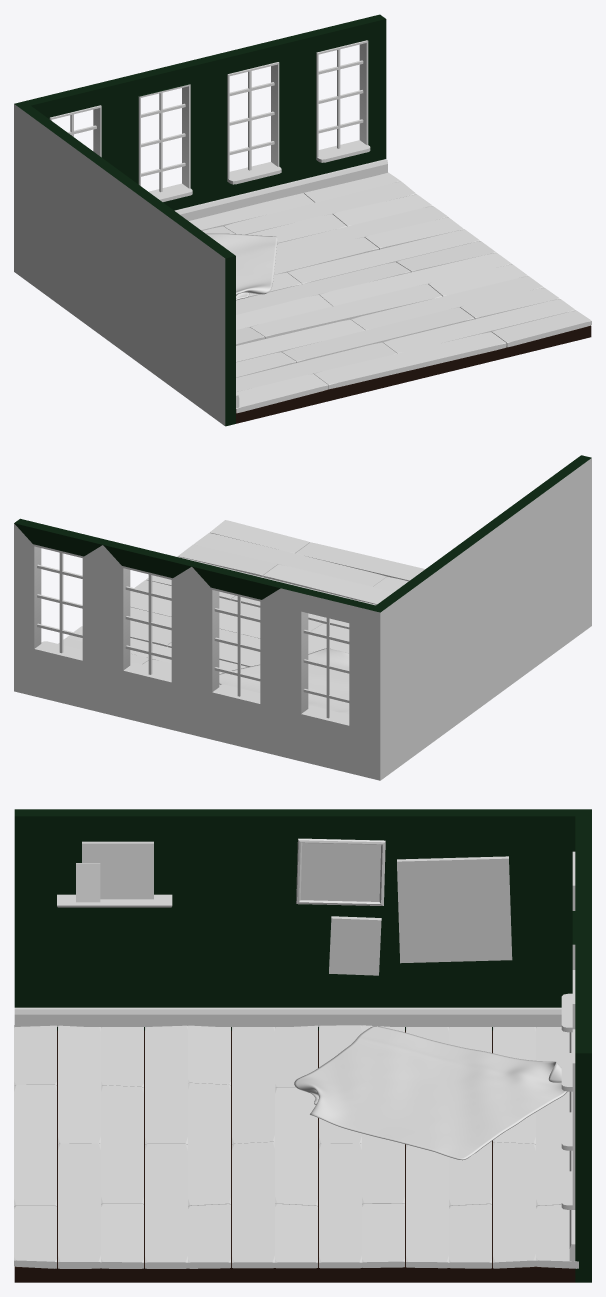
Rendered from AptRoom.fbx.
3 renders of one model, top to bottom at view 1: azimuth 30°, elevation 25°; view 2: azimuth 150°, elevation 25°; view 3: azimuth 270°, elevation 25°, orthographic. The views are drawn at different scales.
Parts seen in each view (by area): view 1: Cube.001, Cube.002, Cube, Cube.004, Plane; view 2: Cube.001, Cube.002, Plane; view 3: Cube.002, Cube.001, Plane, Cube.005, Cube.003, Cube, Cube.007, Cube.009, Cube.006, Cube.008, Cube.010, Cube.004.
Part boxes in pixels (bbox=[...]): Cube.001: bbox=[14, 14, 386, 426]; Cube.002: bbox=[189, 172, 591, 413]; Cube: bbox=[236, 325, 591, 423]; Cube.004: bbox=[174, 159, 387, 220]; Plane: bbox=[206, 233, 277, 300]; Cube.001: bbox=[14, 455, 591, 780]; Cube.002: bbox=[58, 520, 425, 685]; Plane: bbox=[219, 648, 349, 714]; Cube.002: bbox=[14, 1025, 578, 1268]; Cube.001: bbox=[14, 809, 591, 1282]; Plane: bbox=[294, 1026, 567, 1160]; Cube.005: bbox=[397, 856, 512, 963]; Cube.003: bbox=[14, 1007, 561, 1026]; Cube: bbox=[14, 1030, 575, 1282]; Cube.007: bbox=[296, 838, 385, 905]; Cube.009: bbox=[82, 841, 153, 899]; Cube.006: bbox=[329, 916, 381, 975]; Cube.008: bbox=[57, 894, 172, 907]; Cube.010: bbox=[76, 863, 100, 902]; Cube.004: bbox=[569, 1032, 575, 1261].
Size of the model in its own units: 1031 by 452 by 1031.
